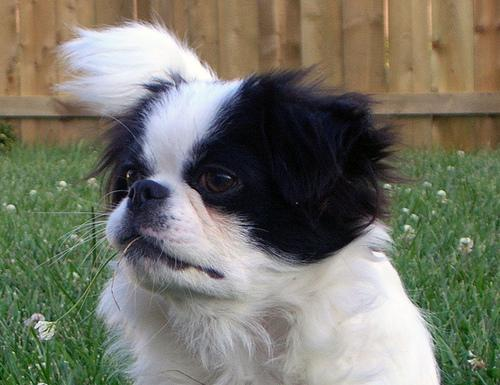dog-japanese_chin: (104, 76, 362, 300)
